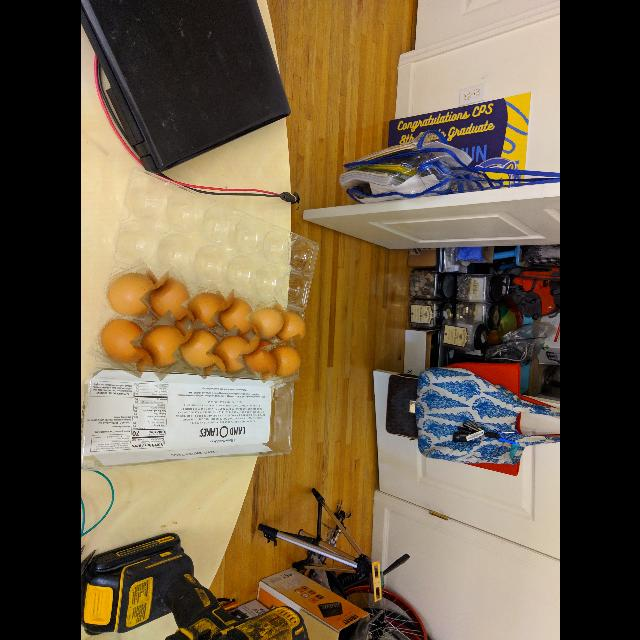Egg: (88, 313, 156, 373), (97, 264, 163, 322), (133, 316, 195, 376), (142, 271, 202, 329), (174, 322, 226, 376), (208, 329, 258, 378), (263, 338, 311, 387), (183, 286, 231, 334), (212, 292, 260, 340), (237, 334, 283, 380), (248, 300, 290, 342), (275, 312, 311, 344)
